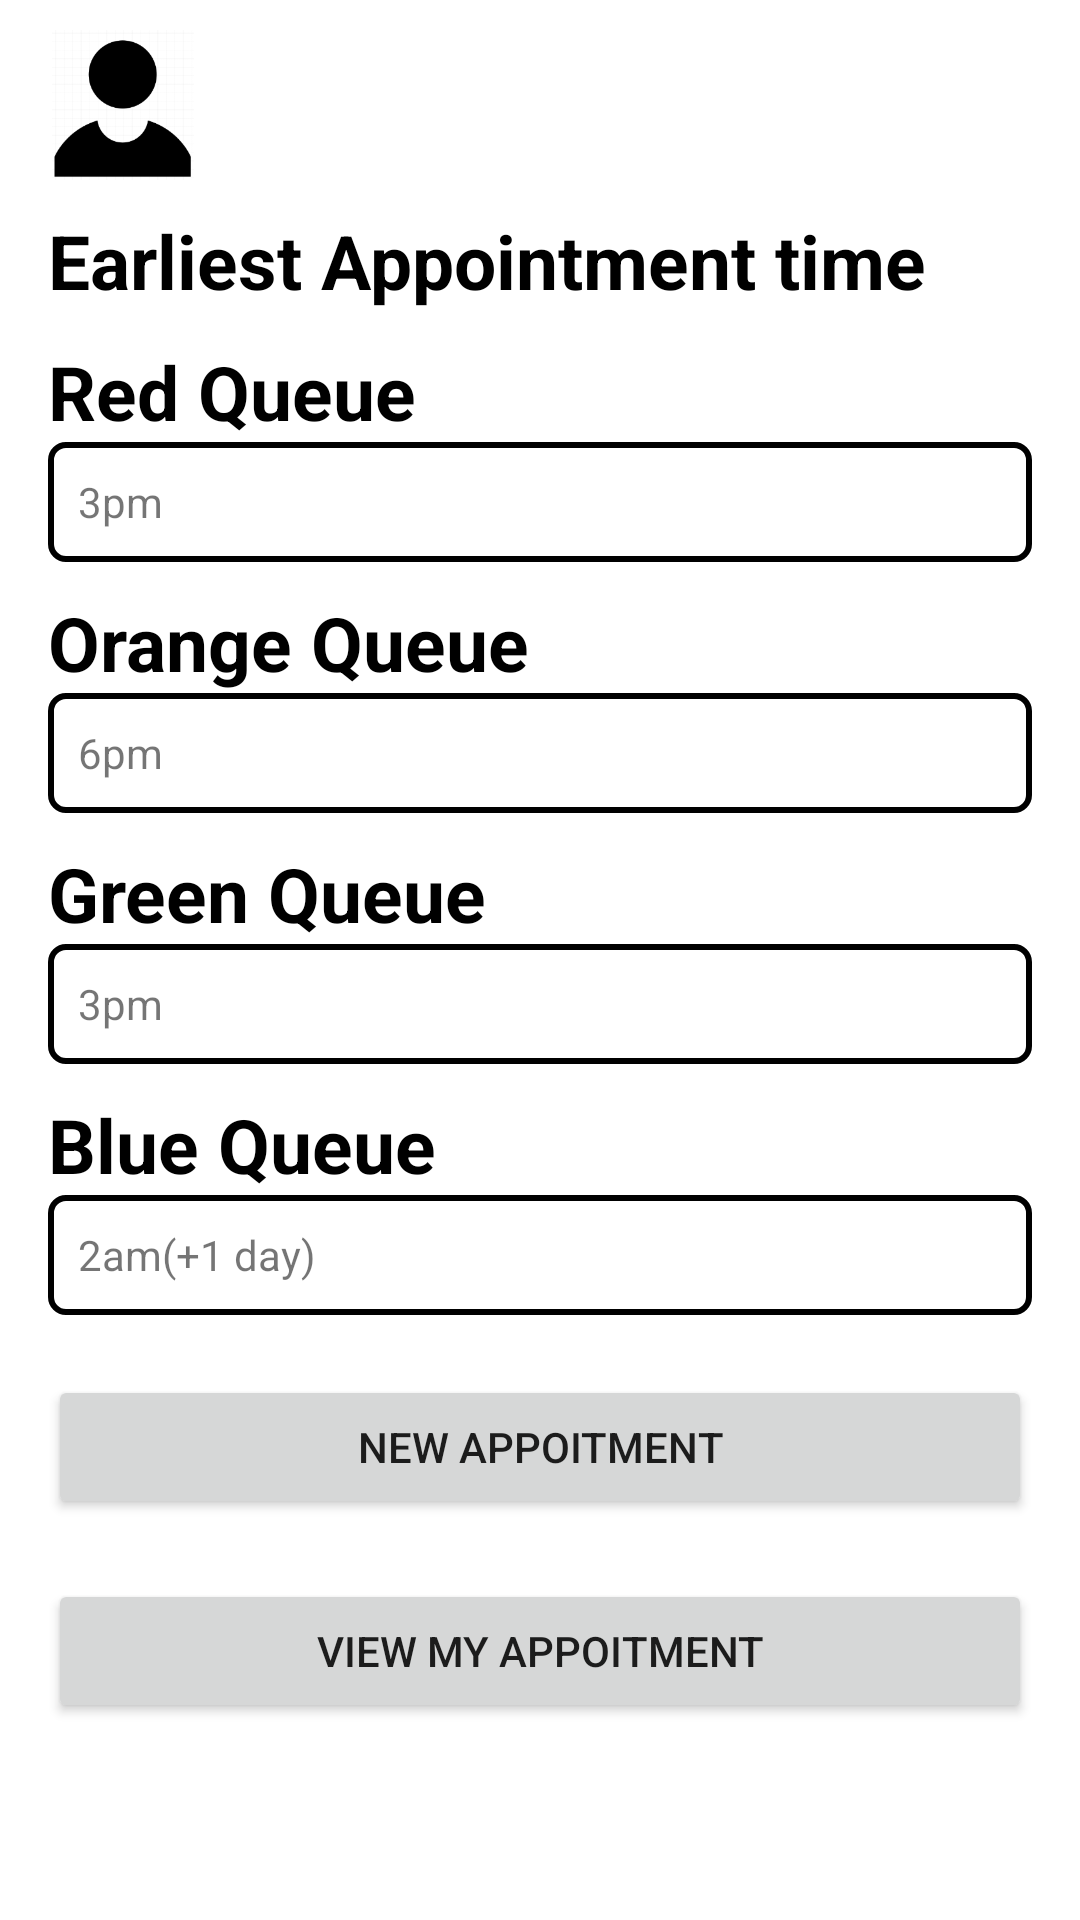

Icons on this 1080 x 1920 Android screen, each with its box as (x1, y1, x2, y2):
profile: (54, 40, 191, 177)
